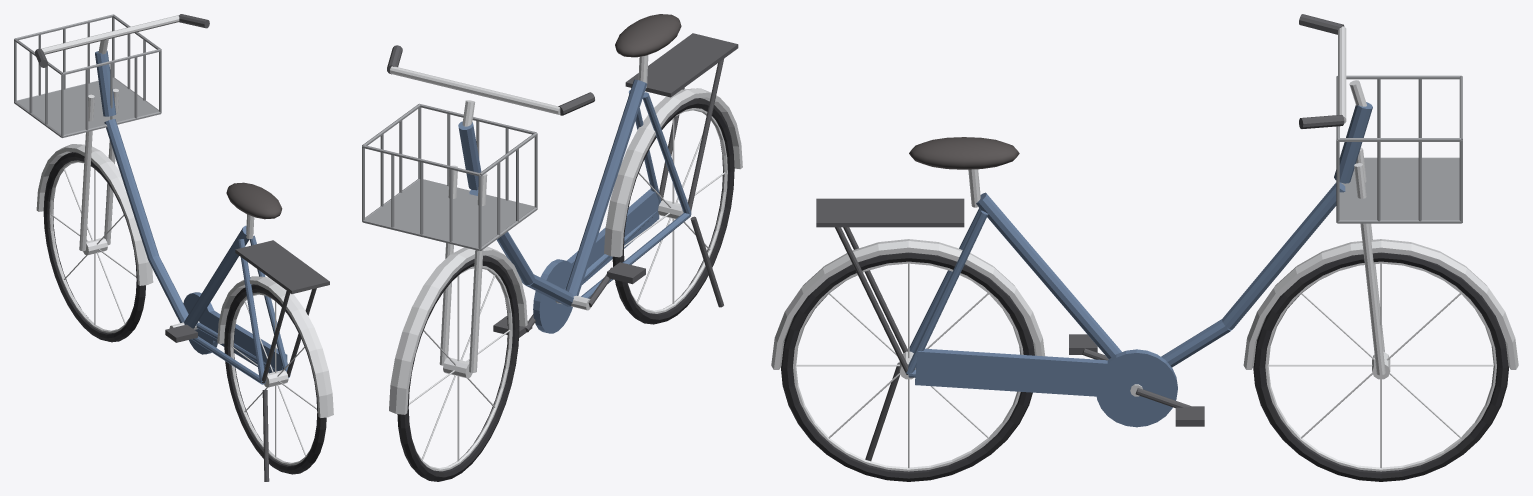
File: bicycle.glb
3 views of the same model, side by side, from view 1: azimuth 30°, elevation 25°; view 2: azimuth 150°, elevation 25°; view 3: azimuth 270°, elevation 25° (orthographic). The views are drawn at different scales.
Visible parts, largest first — view 1: bk_bkbottom, bk_wr_fender, bk_wf_tire, bk_wf_fender, bk_wr_tire, bk_rack, bk_dt1, bk_saddle, bk_stube, bk_chaincase2, bk_fork_r, bk_bar (+12 smaller); view 2: bk_bkbottom, bk_wf_fender, bk_wr_fender, bk_wf_tire, bk_wr_tire, bk_rack, bk_stube, bk_saddle, bk_chaincase2, bk_chaincase, bk_bar, bk_fork_r (+17 smaller); view 3: bk_wf_tire, bk_chaincase2, bk_wr_tire, bk_bkbottom, bk_wf_fender, bk_chaincase, bk_wr_fender, bk_rack, bk_stube, bk_saddle, bk_dt1, bk_wf_rim (+7 smaller).
Boxes of the visible parts, x1,y1,x2,y2 form: bk_bkbottom: [16, 78, 158, 134]; bk_wr_fender: [217, 276, 333, 417]; bk_wf_tire: [43, 152, 145, 342]; bk_wf_fender: [36, 144, 153, 285]; bk_wr_tire: [224, 284, 326, 474]; bk_rack: [235, 240, 329, 293]; bk_dt1: [104, 119, 158, 259]; bk_saddle: [226, 182, 282, 219]; bk_stube: [184, 225, 249, 328]; bk_chaincase2: [201, 310, 287, 373]; bk_fork_r: [79, 94, 94, 251]; bk_bar: [40, 15, 179, 54]; bk_bkbottom: [365, 179, 534, 247]; bk_wf_fender: [389, 246, 527, 414]; bk_wr_fender: [604, 88, 742, 257]; bk_wf_tire: [397, 255, 519, 481]; bk_wr_tire: [612, 98, 734, 324]; bk_rack: [625, 33, 738, 97]; bk_stube: [565, 79, 647, 296]; bk_saddle: [615, 14, 681, 57]; bk_chaincase2: [561, 188, 659, 289]; bk_chaincase: [533, 259, 572, 333]; bk_bar: [390, 66, 560, 114]; bk_fork_r: [469, 173, 487, 372]; bk_wf_tire: [1253, 252, 1508, 481]; bk_chaincase2: [915, 348, 1129, 398]; bk_wr_tire: [781, 252, 1034, 481]; bk_bkbottom: [1339, 158, 1459, 219]; bk_wf_fender: [1243, 239, 1518, 369]; bk_chaincase: [1095, 349, 1177, 427]; bk_wr_fender: [771, 239, 1044, 369]; bk_rack: [816, 198, 964, 227]; bk_stube: [976, 192, 1121, 358]; bk_saddle: [909, 137, 1019, 169]; bk_dt1: [1221, 182, 1345, 329]; bk_wf_rim: [1265, 261, 1496, 471].
Size of the model in its own units: 0.625 by 1.12 by 1.82.
